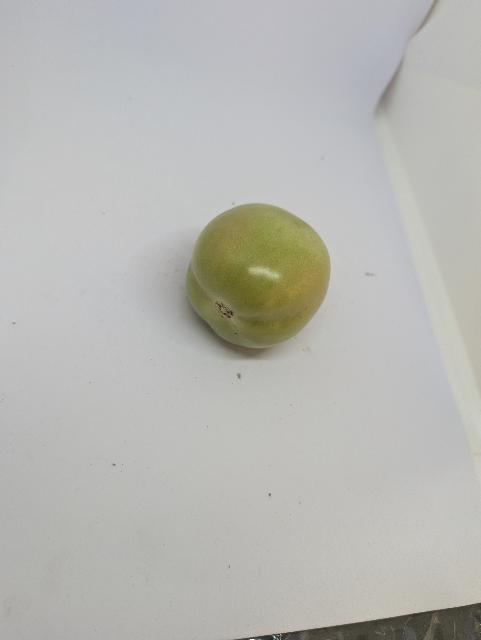green: (184, 201, 333, 350)
